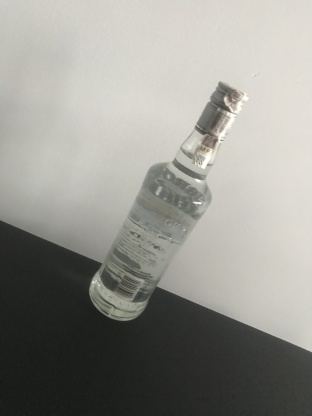nakretka: (193, 79, 249, 145)
